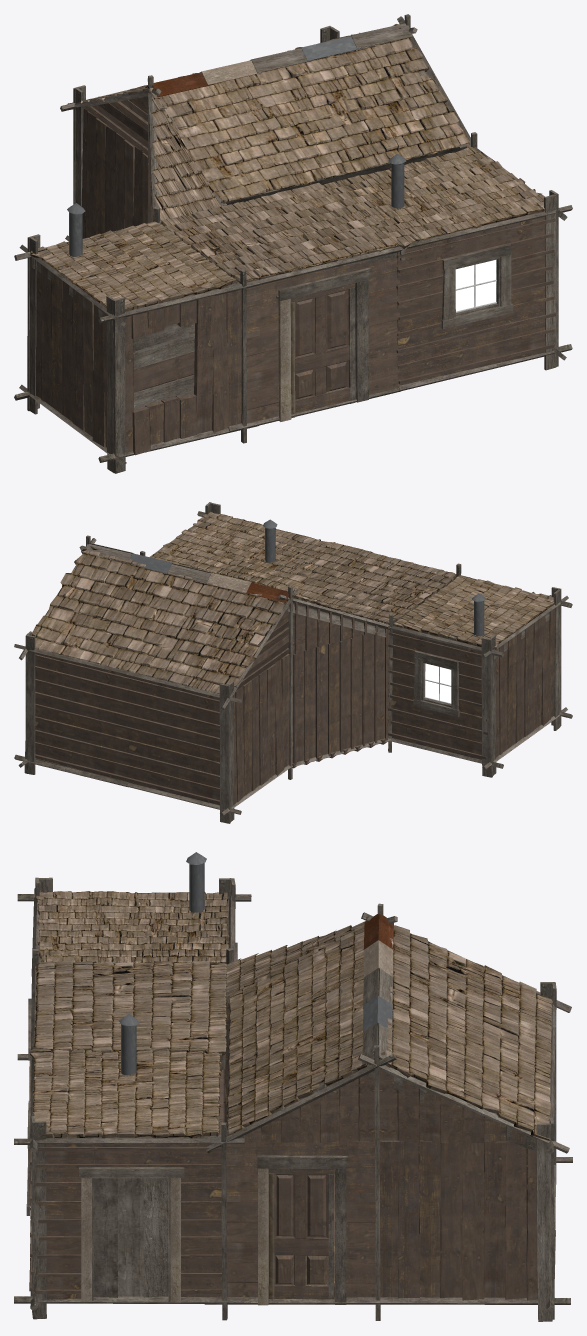
The model's file is wooden shack.fbx.
The picture shows the model from 3 angles, top to bottom: view 1: azimuth 30°, elevation 25°; view 2: azimuth 150°, elevation 25°; view 3: azimuth 270°, elevation 25°; orthographic projection. The views are drawn at different scales.
Visible parts, largest first — view 1: Cube; view 2: Cube; view 3: Cube.
Boxes of the visible parts, <box> form: Cube: <box>14,14,572,473</box>; Cube: <box>14,502,572,823</box>; Cube: <box>14,852,572,1321</box>.
Bounding box in the file's own units: 708 × 345 × 638.
